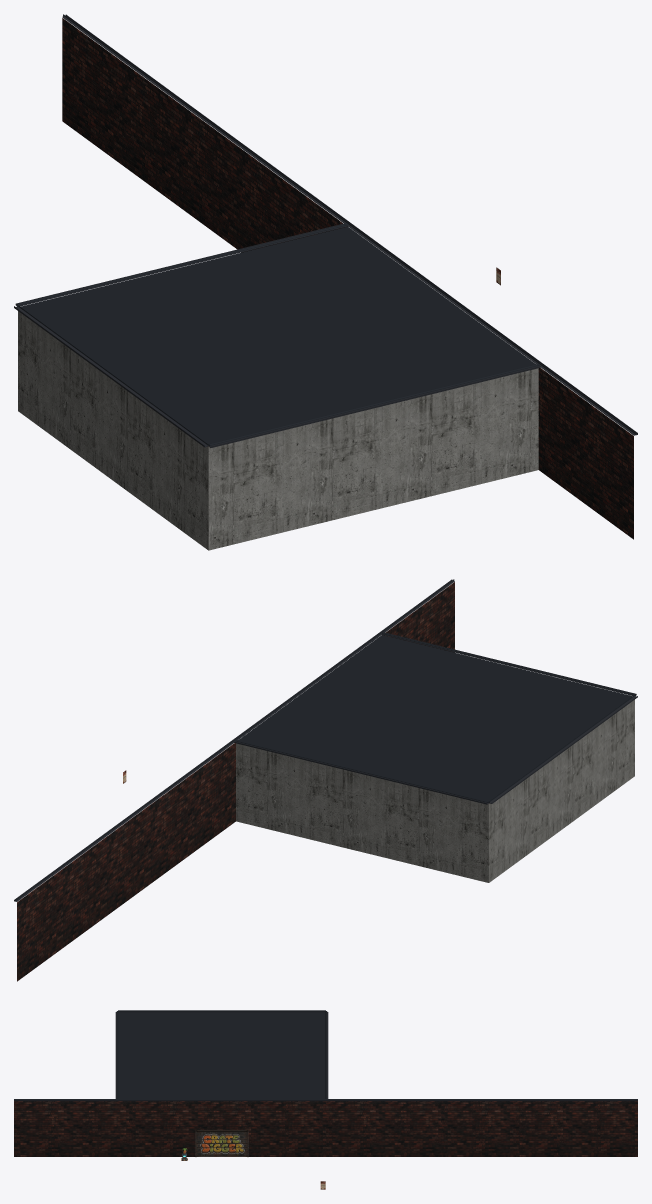
File: crate_digger_record_shop_v3.glb
3 renders of one model, top to bottom at view 1: azimuth 30°, elevation 25°; view 2: azimuth 150°, elevation 25°; view 3: azimuth 270°, elevation 25°, orthographic. The views are drawn at different scales.
Visible parts, largest first — view 1: garageRoofDeck, WALL__crate_digger_frontage, newRoomSouthWall, newRoomWestWall, gutterFloor.004, gutterOuter.004, capMesh.004, capMesh.010, capMesh.011, gutterOuter.011; view 2: garageRoofDeck, WALL__crate_digger_frontage, newRoomNorthWall, newRoomWestWall, gutterFloor.004, gutterOuter.004, capMesh.004, capMesh.010, capMesh.011; view 3: WALL__crate_digger_frontage, garageRoofDeck, garageDoorMesh, capMesh.004, gutterOuter.004, capMesh.009.
Part boxes in pixels (x1,y1,x2,y2): garageRoofDeck: (21,227,535,444); WALL__crate_digger_frontage: (62,18,633,539); newRoomSouthWall: (208,368,538,550); newRoomWestWall: (18,311,208,550); gutterFloor.004: (62,16,637,435); gutterOuter.004: (65,14,637,434); capMesh.004: (63,14,635,434); capMesh.010: (16,223,348,305); capMesh.011: (208,363,539,445); gutterOuter.011: (210,365,540,447); garageRoofDeck: (238,635,632,801); WALL__crate_digger_frontage: (17,582,454,981); newRoomNorthWall: (236,743,488,882); newRoomWestWall: (489,700,634,882); gutterFloor.004: (14,580,454,901); gutterOuter.004: (14,579,452,900); capMesh.004: (15,579,454,901); capMesh.010: (235,740,488,802); capMesh.011: (382,632,635,695); WALL__crate_digger_frontage: (14,1101,637,1156); garageRoofDeck: (118,1012,325,1098); garageDoorMesh: (196,1130,247,1156); capMesh.004: (14,1099,637,1100); gutterOuter.004: (14,1100,637,1101); capMesh.009: (118,1010,325,1011).
Size of what is drawn, in the model's own units: 58.41 by 12.35 by 120.
450 materials, 433 textured.
